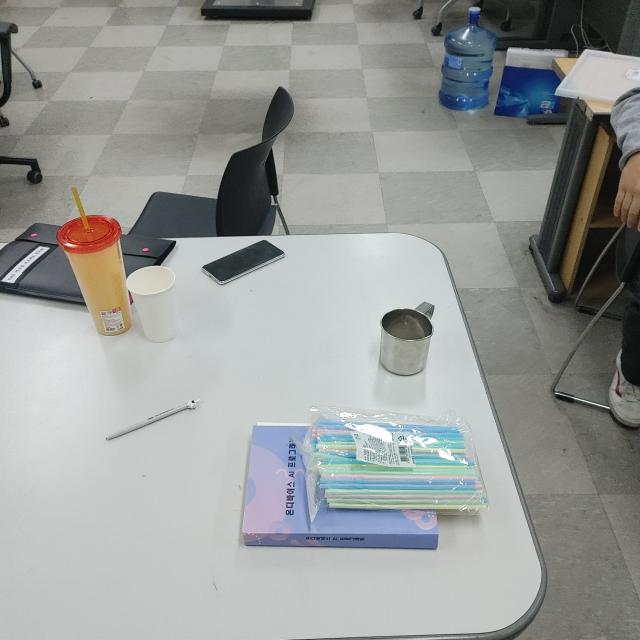cup: (378, 298, 436, 377)
phone: (202, 238, 286, 285)
